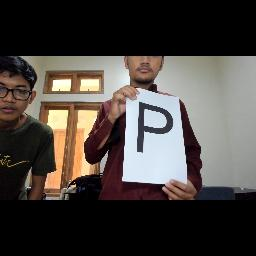p: (132, 100, 180, 160)
